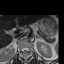CCS_normal: (24, 45, 26, 55)
LFS_normal: (28, 45, 31, 53)
LLS_normal: (26, 45, 28, 53)
RFS_normal: (19, 46, 21, 53)
RLS_normal: (21, 45, 24, 53)
